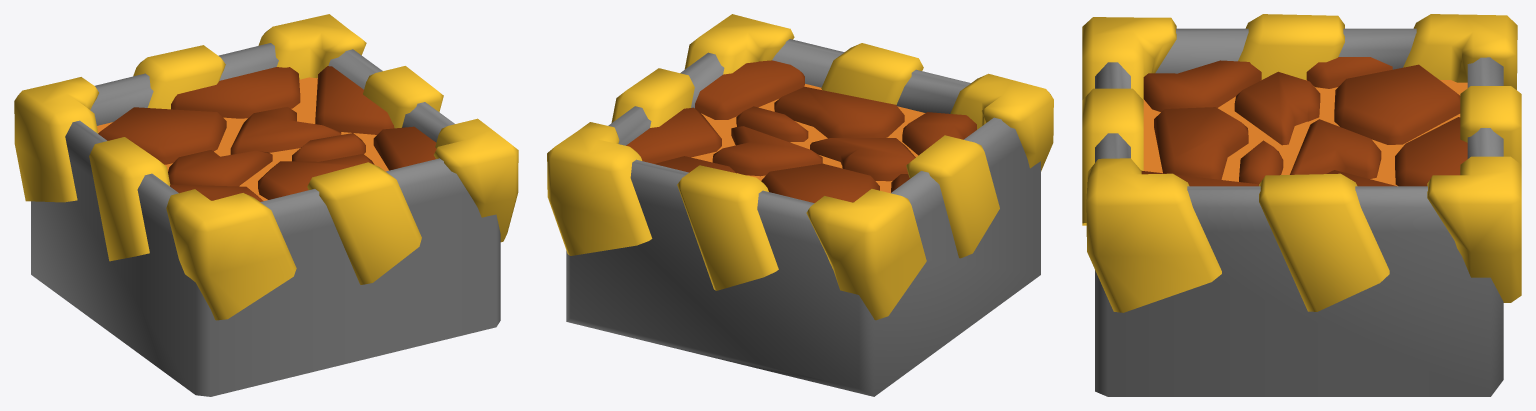
Rendered from fix.fbx.
The picture shows the model from 3 angles, left to right: view 1: azimuth 30°, elevation 25°; view 2: azimuth 150°, elevation 25°; view 3: azimuth 270°, elevation 25°; orthographic projection. The views are drawn at different scales.
Parts seen in each view (by area): view 1: Cube.039, Cube.040, Cylinder.002; view 2: Cube.039, Cube.040, Cylinder.002; view 3: Cube.039, Cube.040, Cylinder.002.
Boxes of the visible parts, box(x1,y1,x2,y2) form: Cube.039: box(31, 43, 500, 396); Cube.040: box(14, 14, 518, 320); Cylinder.002: box(98, 66, 436, 201); Cube.039: box(566, 39, 1040, 396); Cube.040: box(547, 14, 1053, 320); Cylinder.002: box(626, 60, 976, 202); Cube.039: box(1095, 28, 1503, 396); Cube.040: box(1082, 14, 1521, 312); Cylinder.002: box(1141, 57, 1467, 186).
Bounding box in the file's own units: 408 × 215 × 408.
